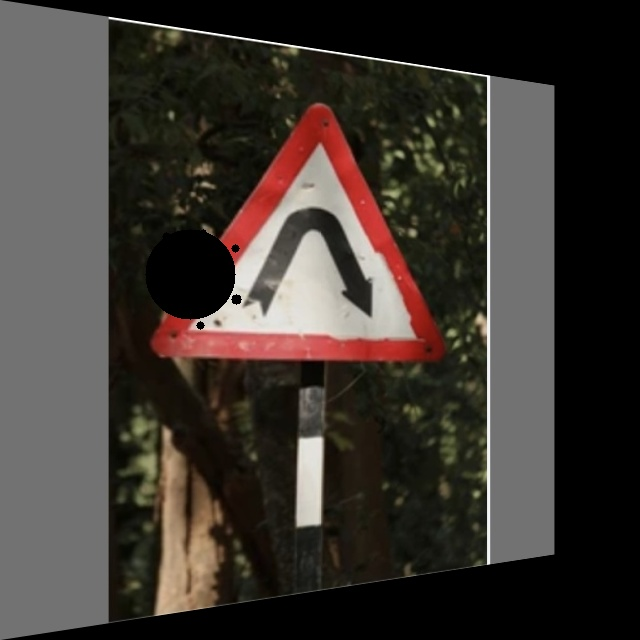Right_Hair_Pin_Bend: (162, 84, 439, 366)
